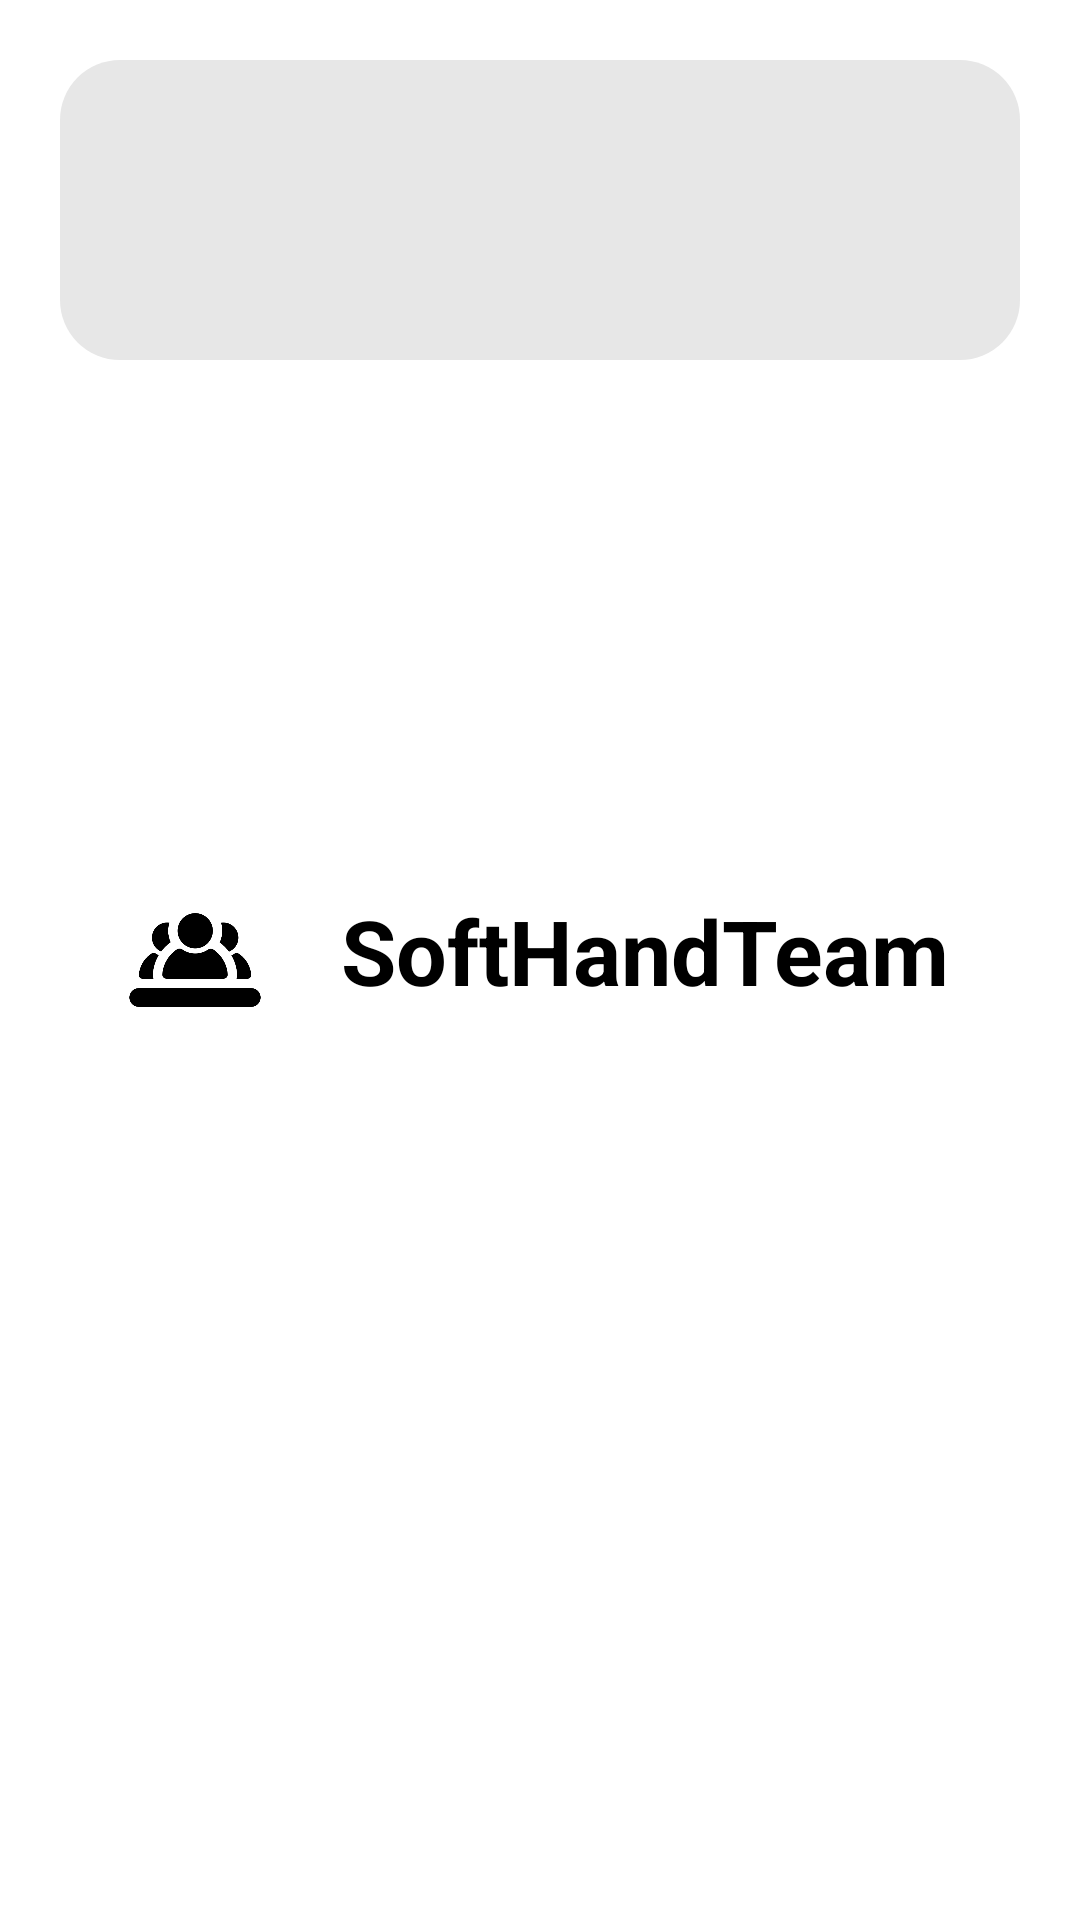

Screen size 1080x1920. Icon name, then its center in pixels as (x,y):
room: (195,960)
